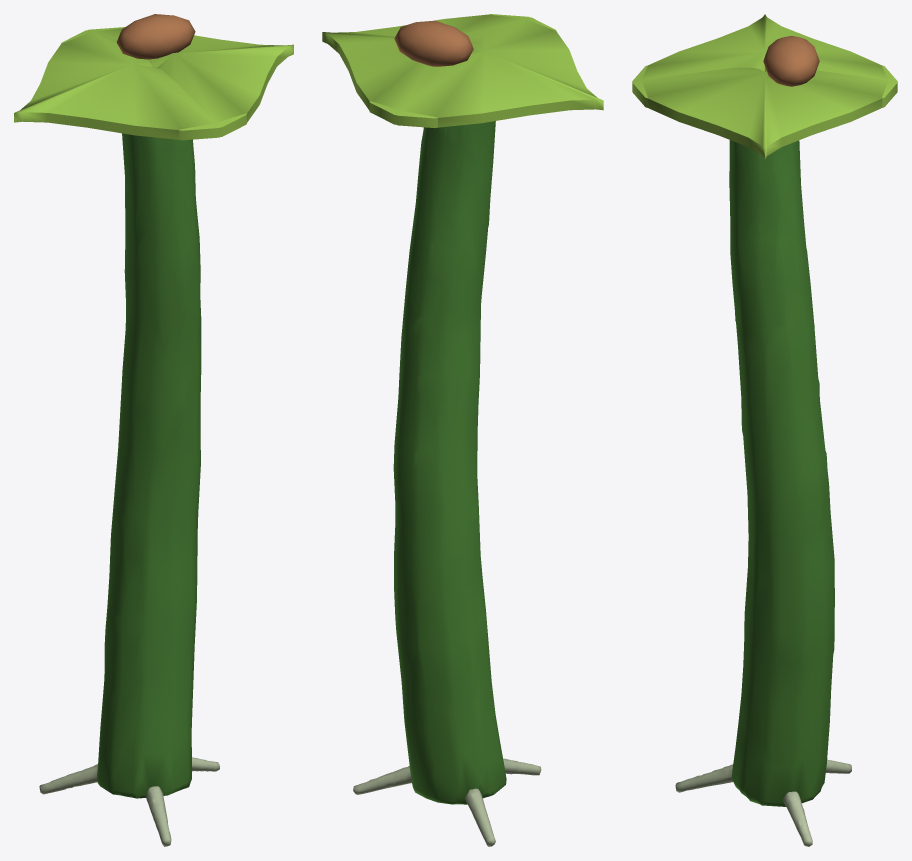
The model's file is canopy_sprout.glb.
3 renders of one model, left to right at view 1: azimuth 30°, elevation 25°; view 2: azimuth 150°, elevation 25°; view 3: azimuth 270°, elevation 25°, orthographic.
Parts seen in each view (by area): view 1: canopy_sprout; view 2: canopy_sprout; view 3: canopy_sprout.
Boxes of the visible parts, x1,y1,x2,y2 form: canopy_sprout: (14,14,293,846); canopy_sprout: (322,14,603,846); canopy_sprout: (632,14,897,846).
Size of the model in its own units: 3.63 by 9.64 by 3.
